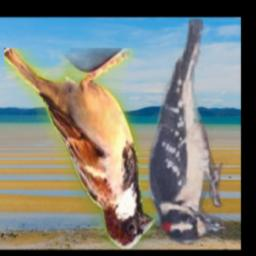Sparrow: (4, 49, 157, 250)
Woodpecker: (146, 20, 227, 248)
